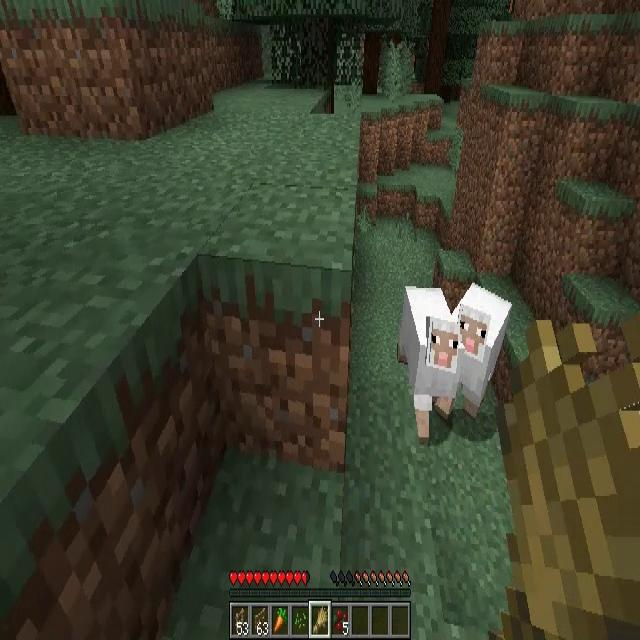sheep: (398, 279, 458, 440), (455, 283, 512, 418)
